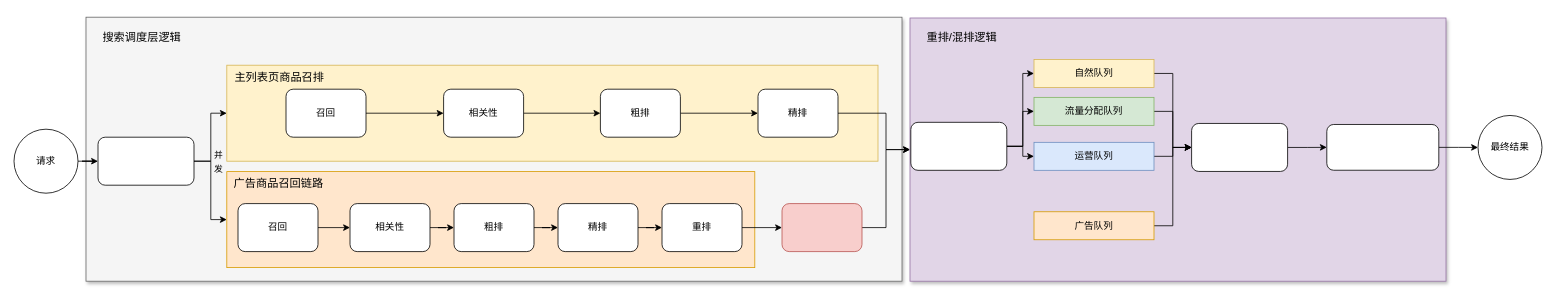
The diagram is 1556 pixels wide and 301 high, and some of its shapes have lost their labels. Here are the shapes that lost their labels. From the top down, the centre of each, then its label:
At point (145, 160): "QP".
At point (958, 146): "前置重排规则".
At point (1239, 147): "统一价值打分".
At point (1382, 147): "混排 （beam search + 体验打散）".
At point (821, 227): "精排 （新增逻辑）".
